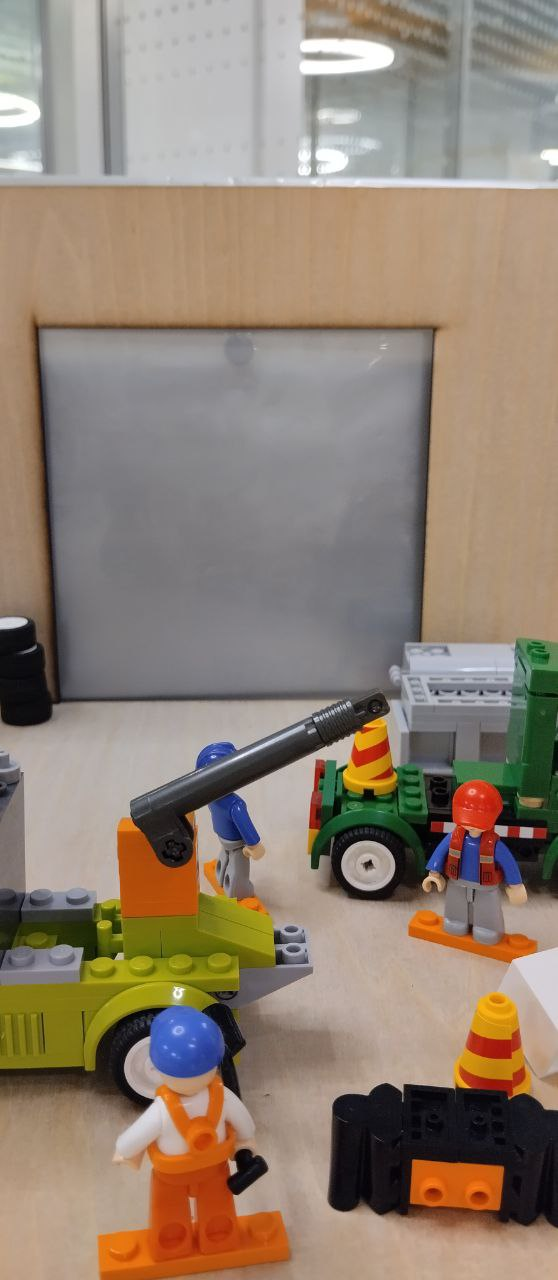Cone: (453, 994, 527, 1095), (348, 708, 397, 793)
Crane: (1, 690, 392, 1105)
Object Black: (330, 1084, 558, 1236)
Truck: (310, 636, 558, 902)
